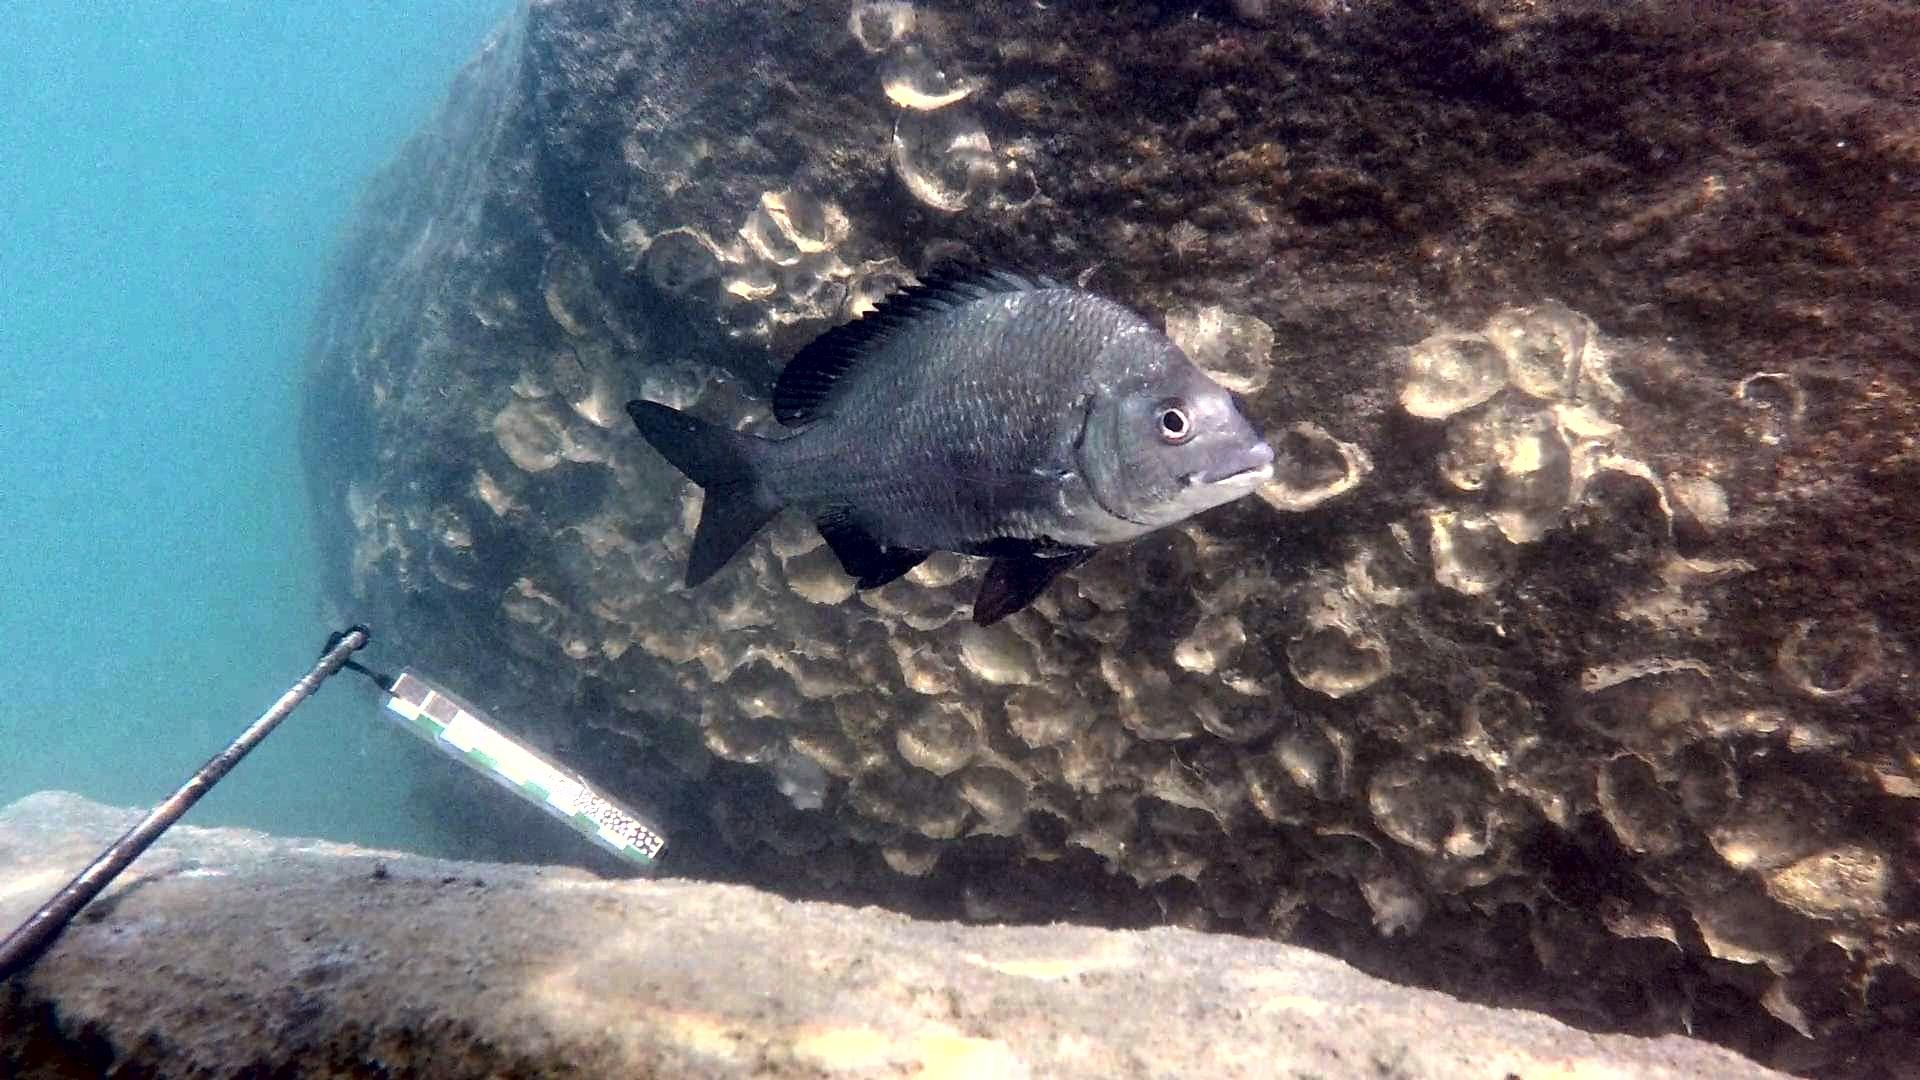acanthopagrus palmaris: (618, 246, 1281, 631)
